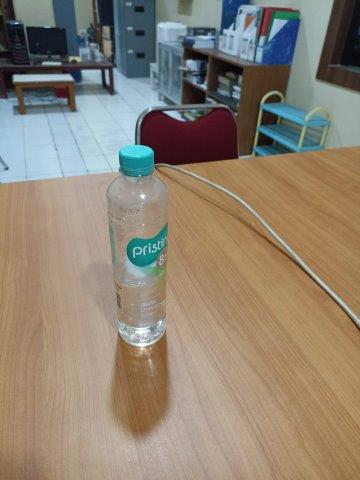botolplastik: (106, 143, 169, 347)
